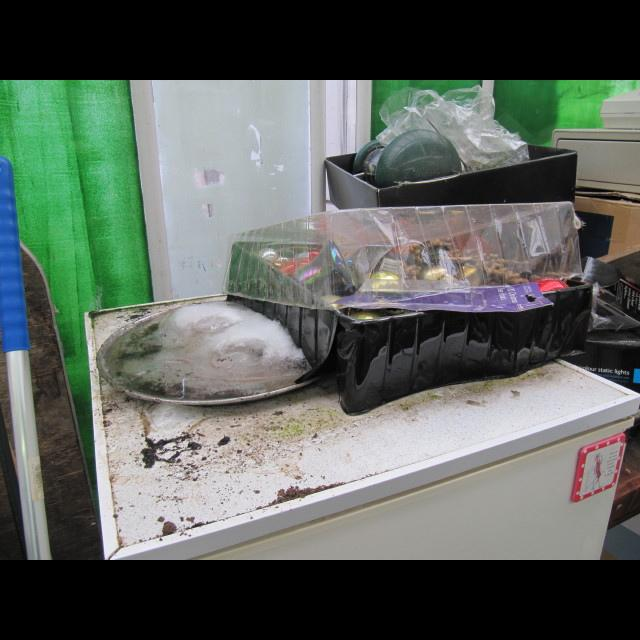Refrigerator: (81, 293, 640, 558)
